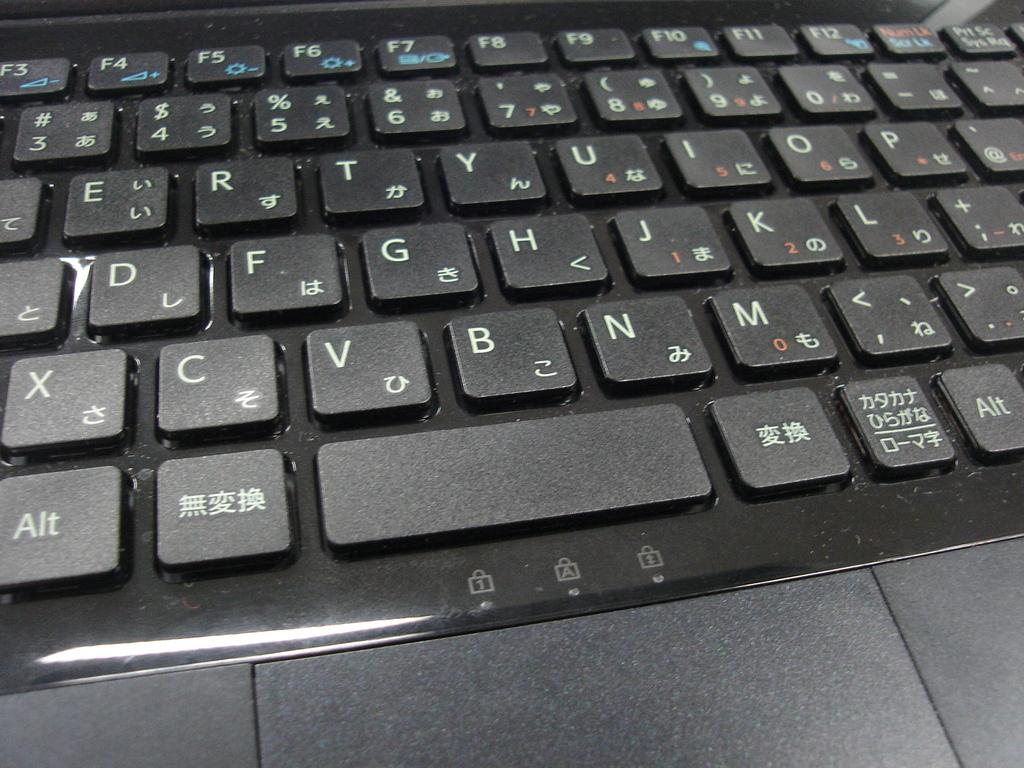Computer-keyboard: (0, 24, 1023, 599)
Laptop: (20, 0, 973, 709)
